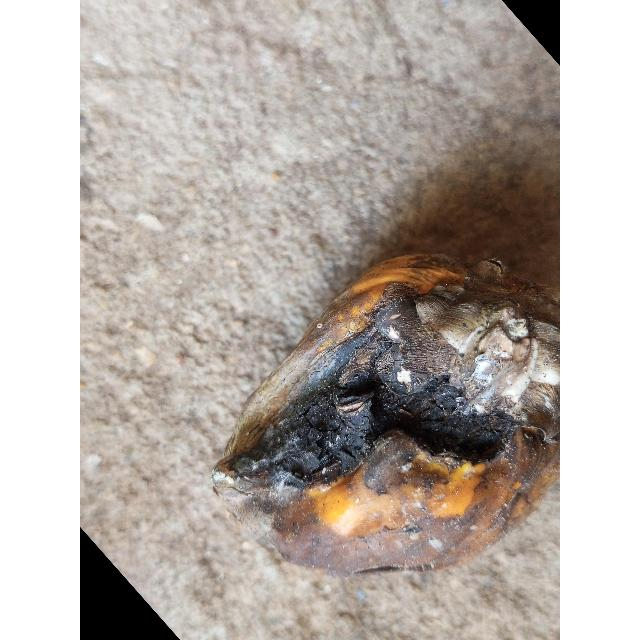damaged: (212, 260, 560, 579)
